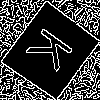K: (25, 25, 83, 80)
